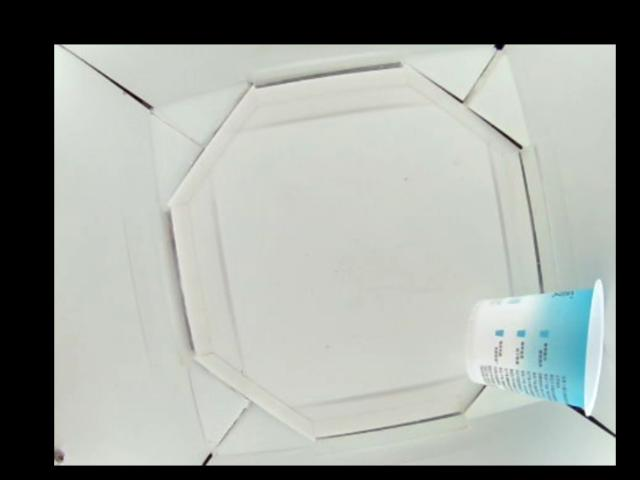Cup: (467, 279, 605, 418)
